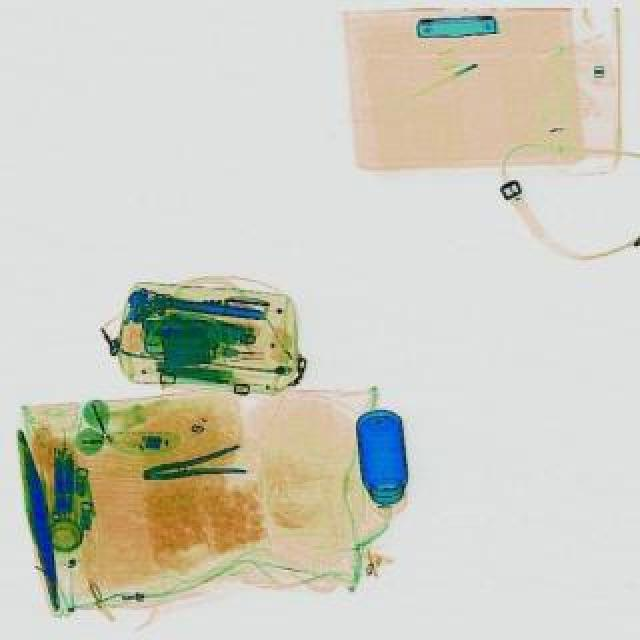wrench: (138, 446, 246, 492)
